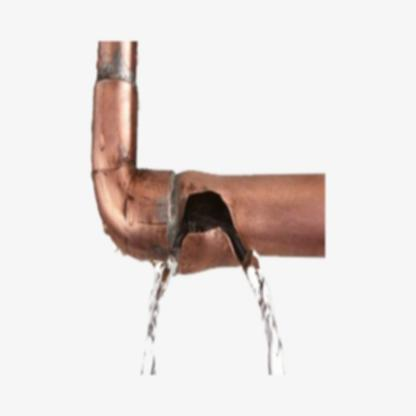burst: (129, 176, 272, 308)
